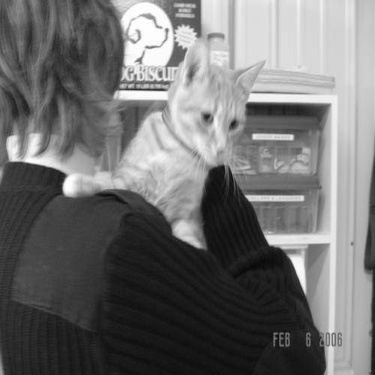cat: (52, 16, 262, 250)
